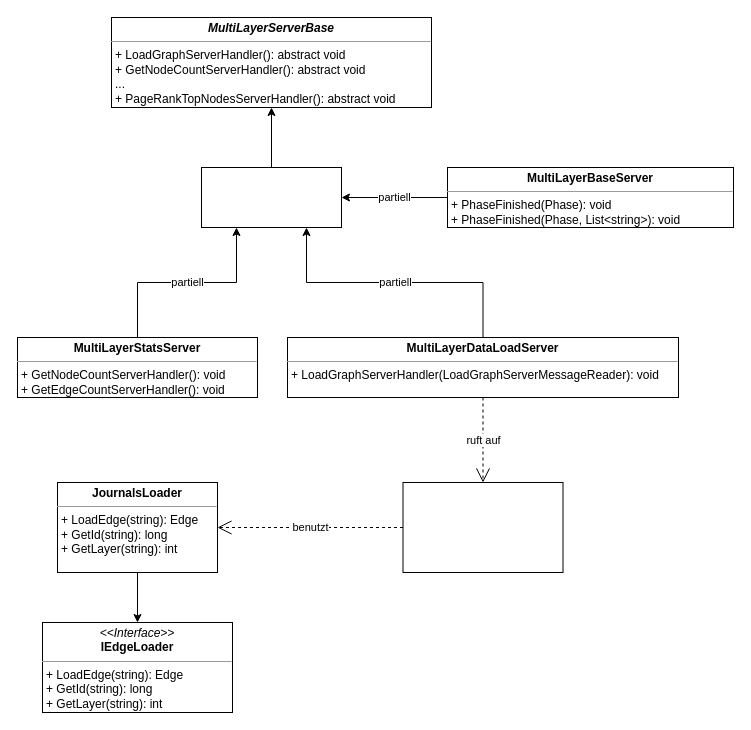
Image size: 751x730. Some labels were removed from this diagram. Each missing label, with the centre of its shape:
GraphLoader + IEdgeLoader: EdgeLoader + LoadGraph(string): void: the point at 482,527
MultiLayeServerImpl: the point at 271,197
